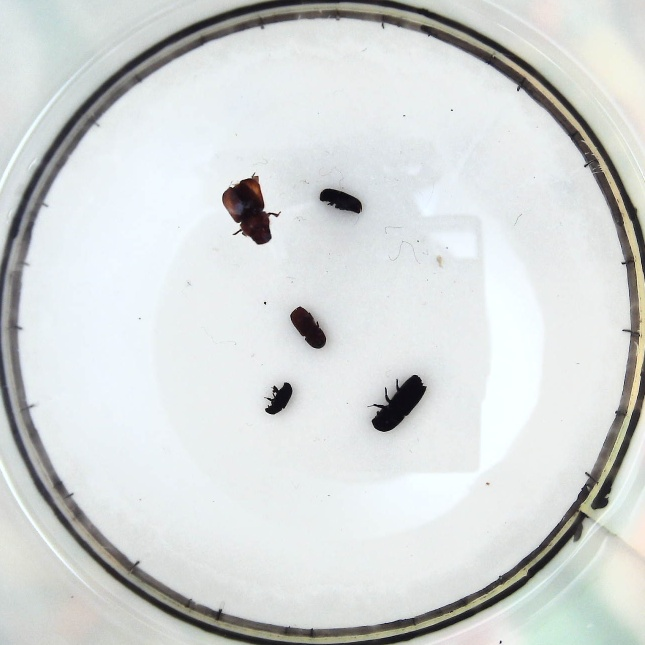armandi: (320, 186, 360, 215)
boerner: (369, 374, 426, 432)
coleoptera: (266, 382, 293, 414)
leconte: (220, 177, 276, 247)
linnaeus: (290, 305, 326, 351)
